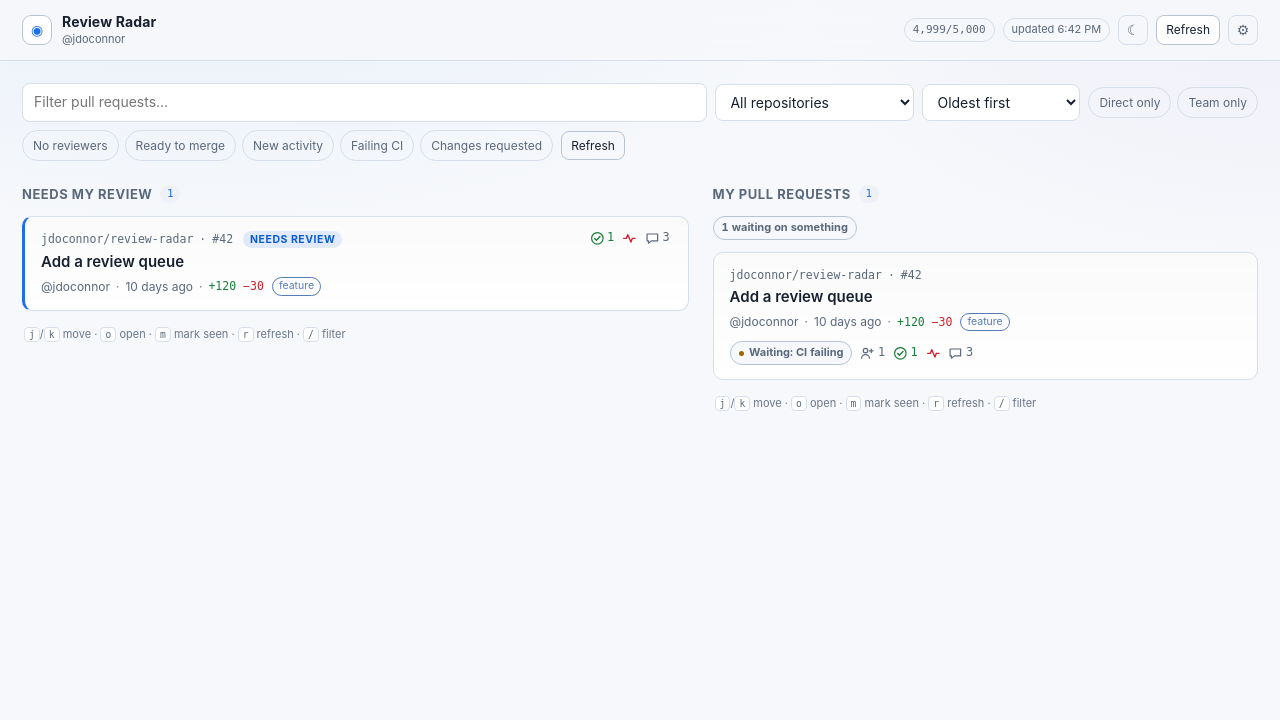
Scenario: token handling › shows settings copy that matches what the app can promise
expect the element with test id "review-queue" is shown: met, box top-left (22, 185), bottom-right (689, 343)
Click the button with test id "open-settings".
click(1243, 30)  # box top-left (1228, 15), bottom-right (1258, 45)
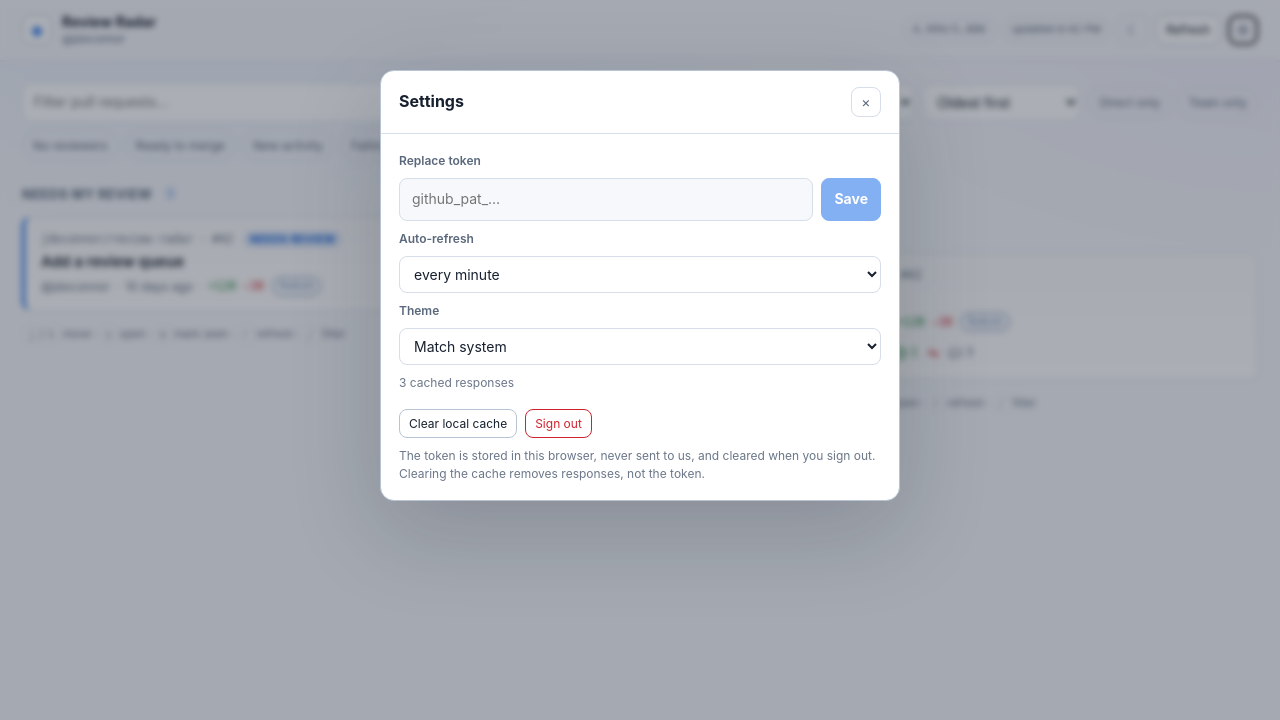
expect the text with test id "token-storage-note" shows "stored in this browser": met, box top-left (399, 448), bottom-right (876, 481)
expect the text with test id "token-storage-note" shows "never sent to us": met, box top-left (399, 448), bottom-right (876, 481)
expect the text with test id "token-storage-note" shows "cleared when you sign out": met, box top-left (399, 448), bottom-right (876, 481)
